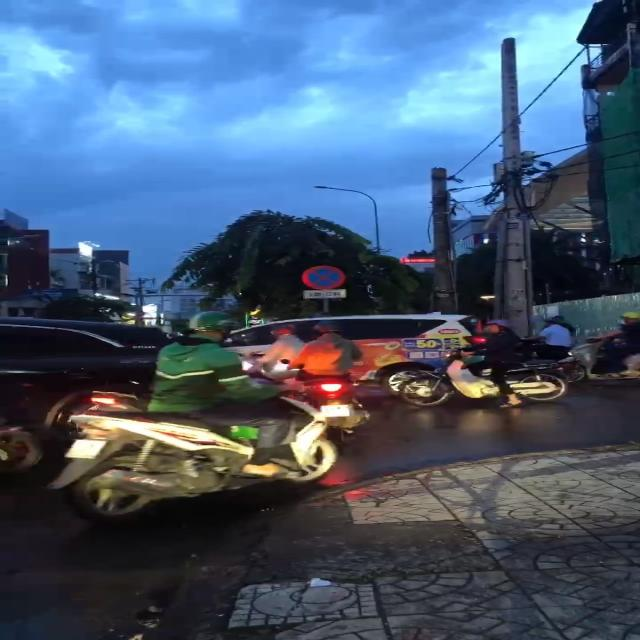Bien bao cam dung xe va do xe: (298, 264, 348, 291)
